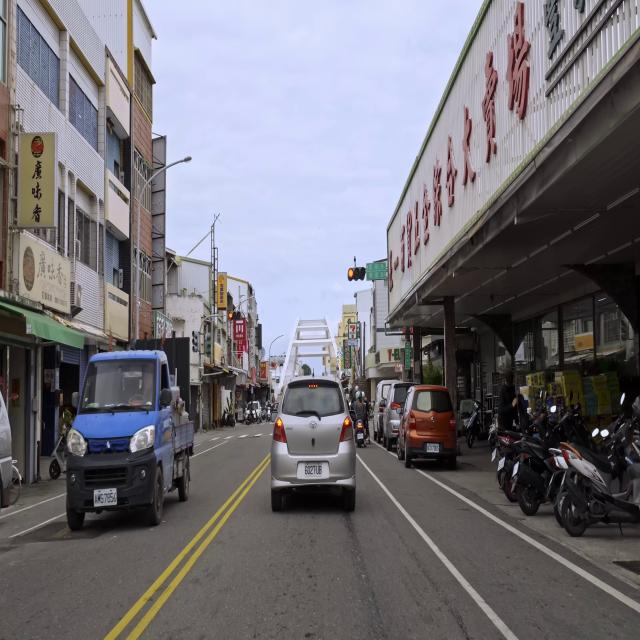red light: (347, 267, 366, 280), (228, 311, 242, 321)
